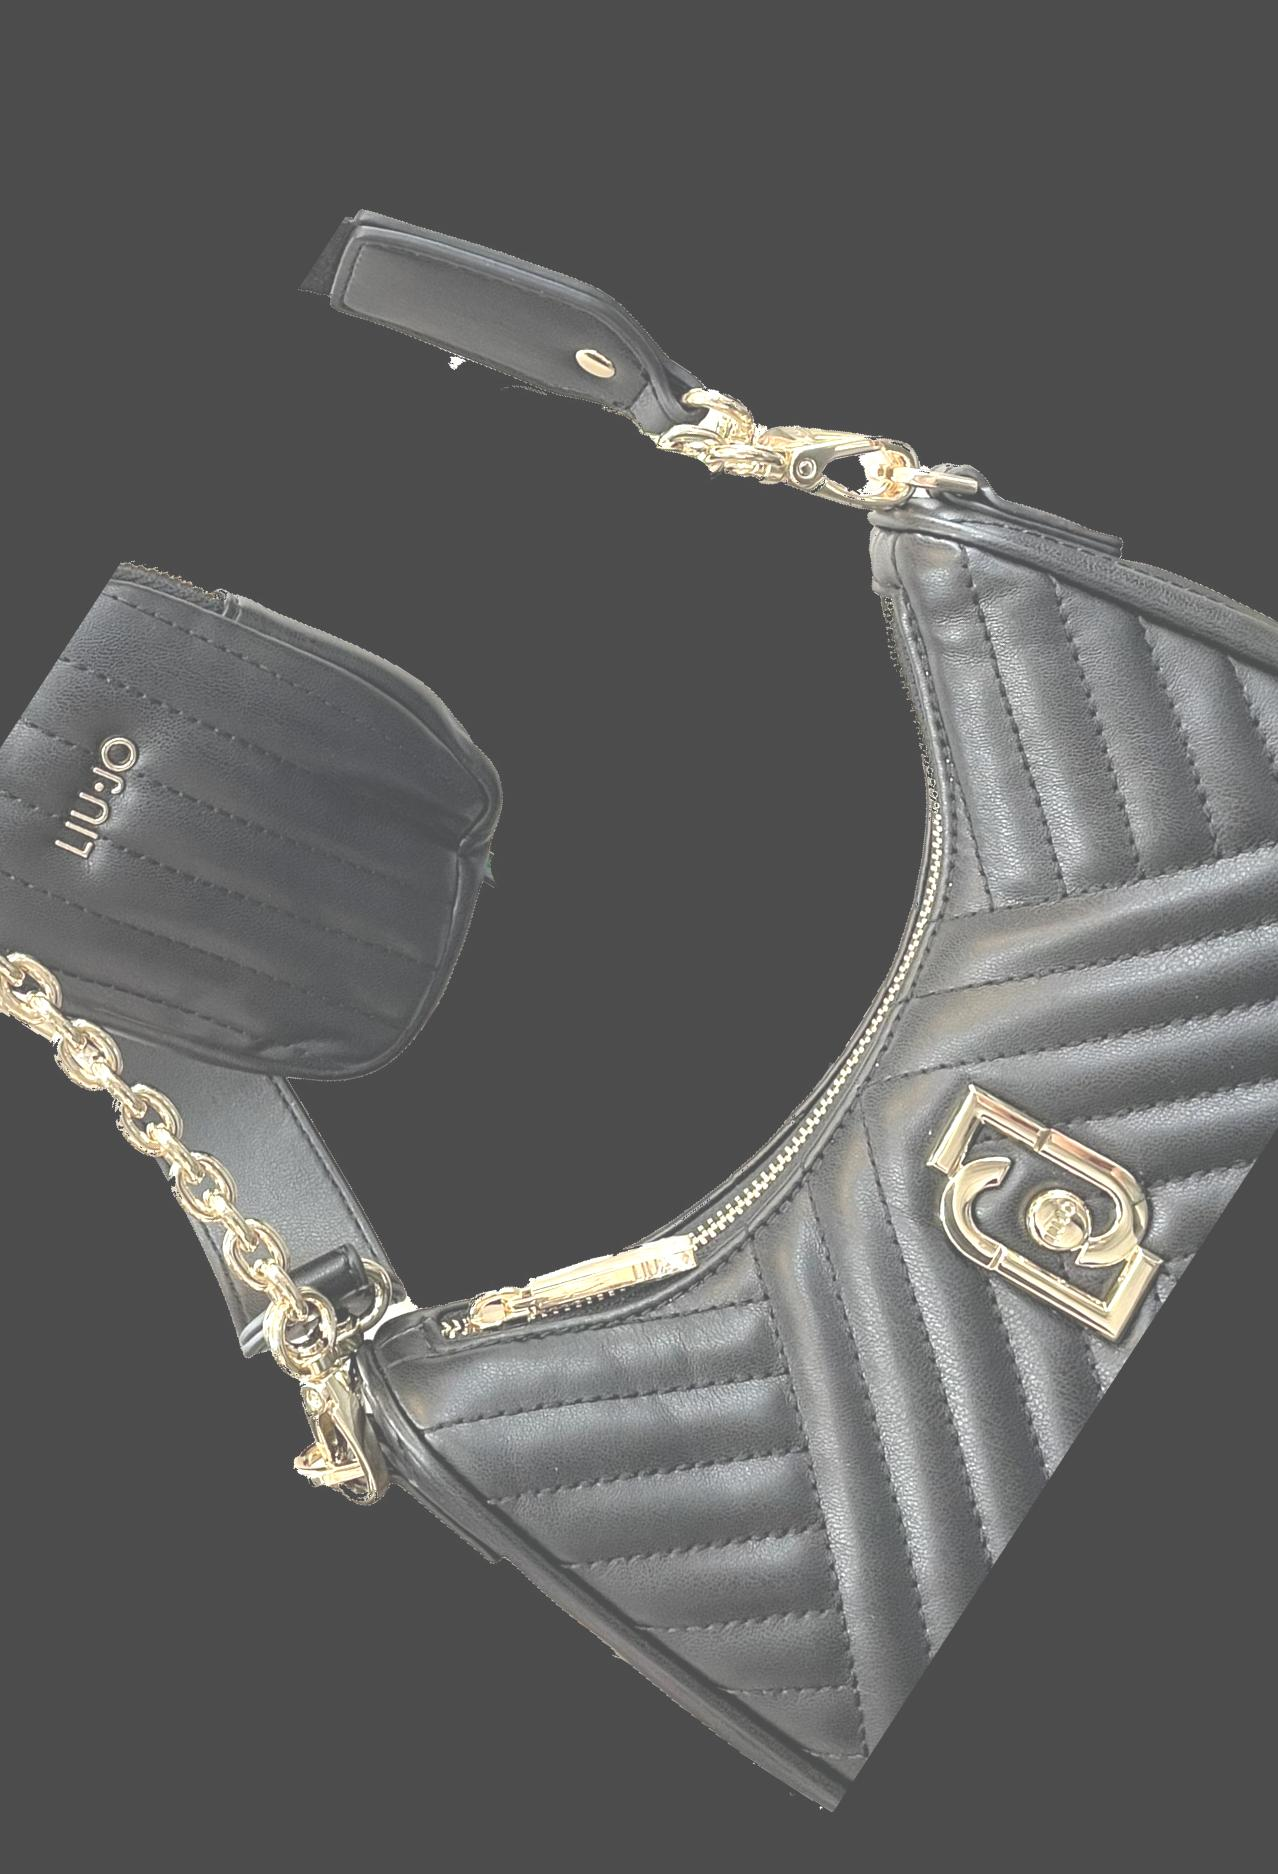LIU-JO: (886, 1065, 1202, 1351)
